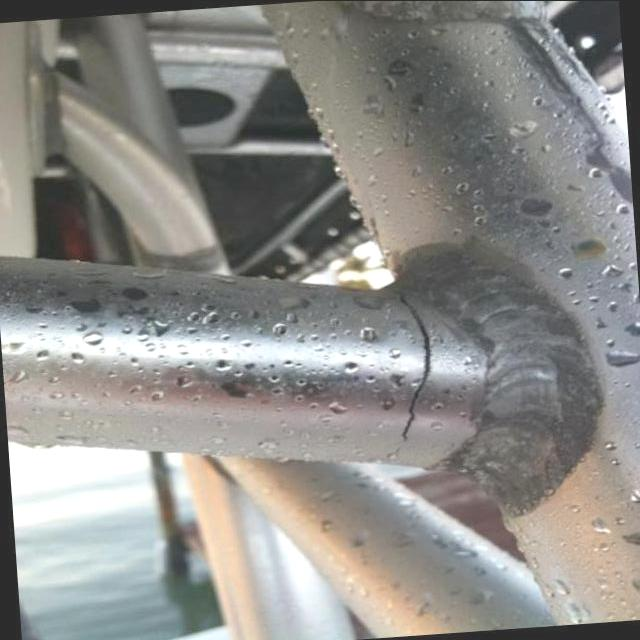defect: (384, 281, 439, 446)
